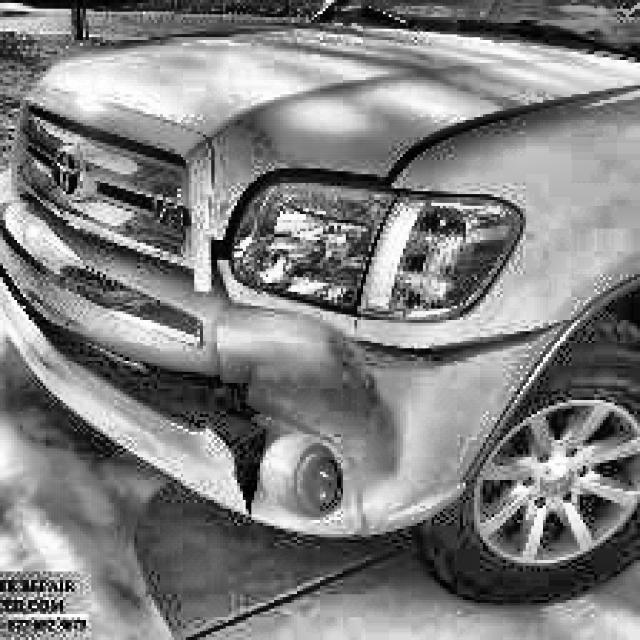bumper_dent: (213, 307, 399, 480)
